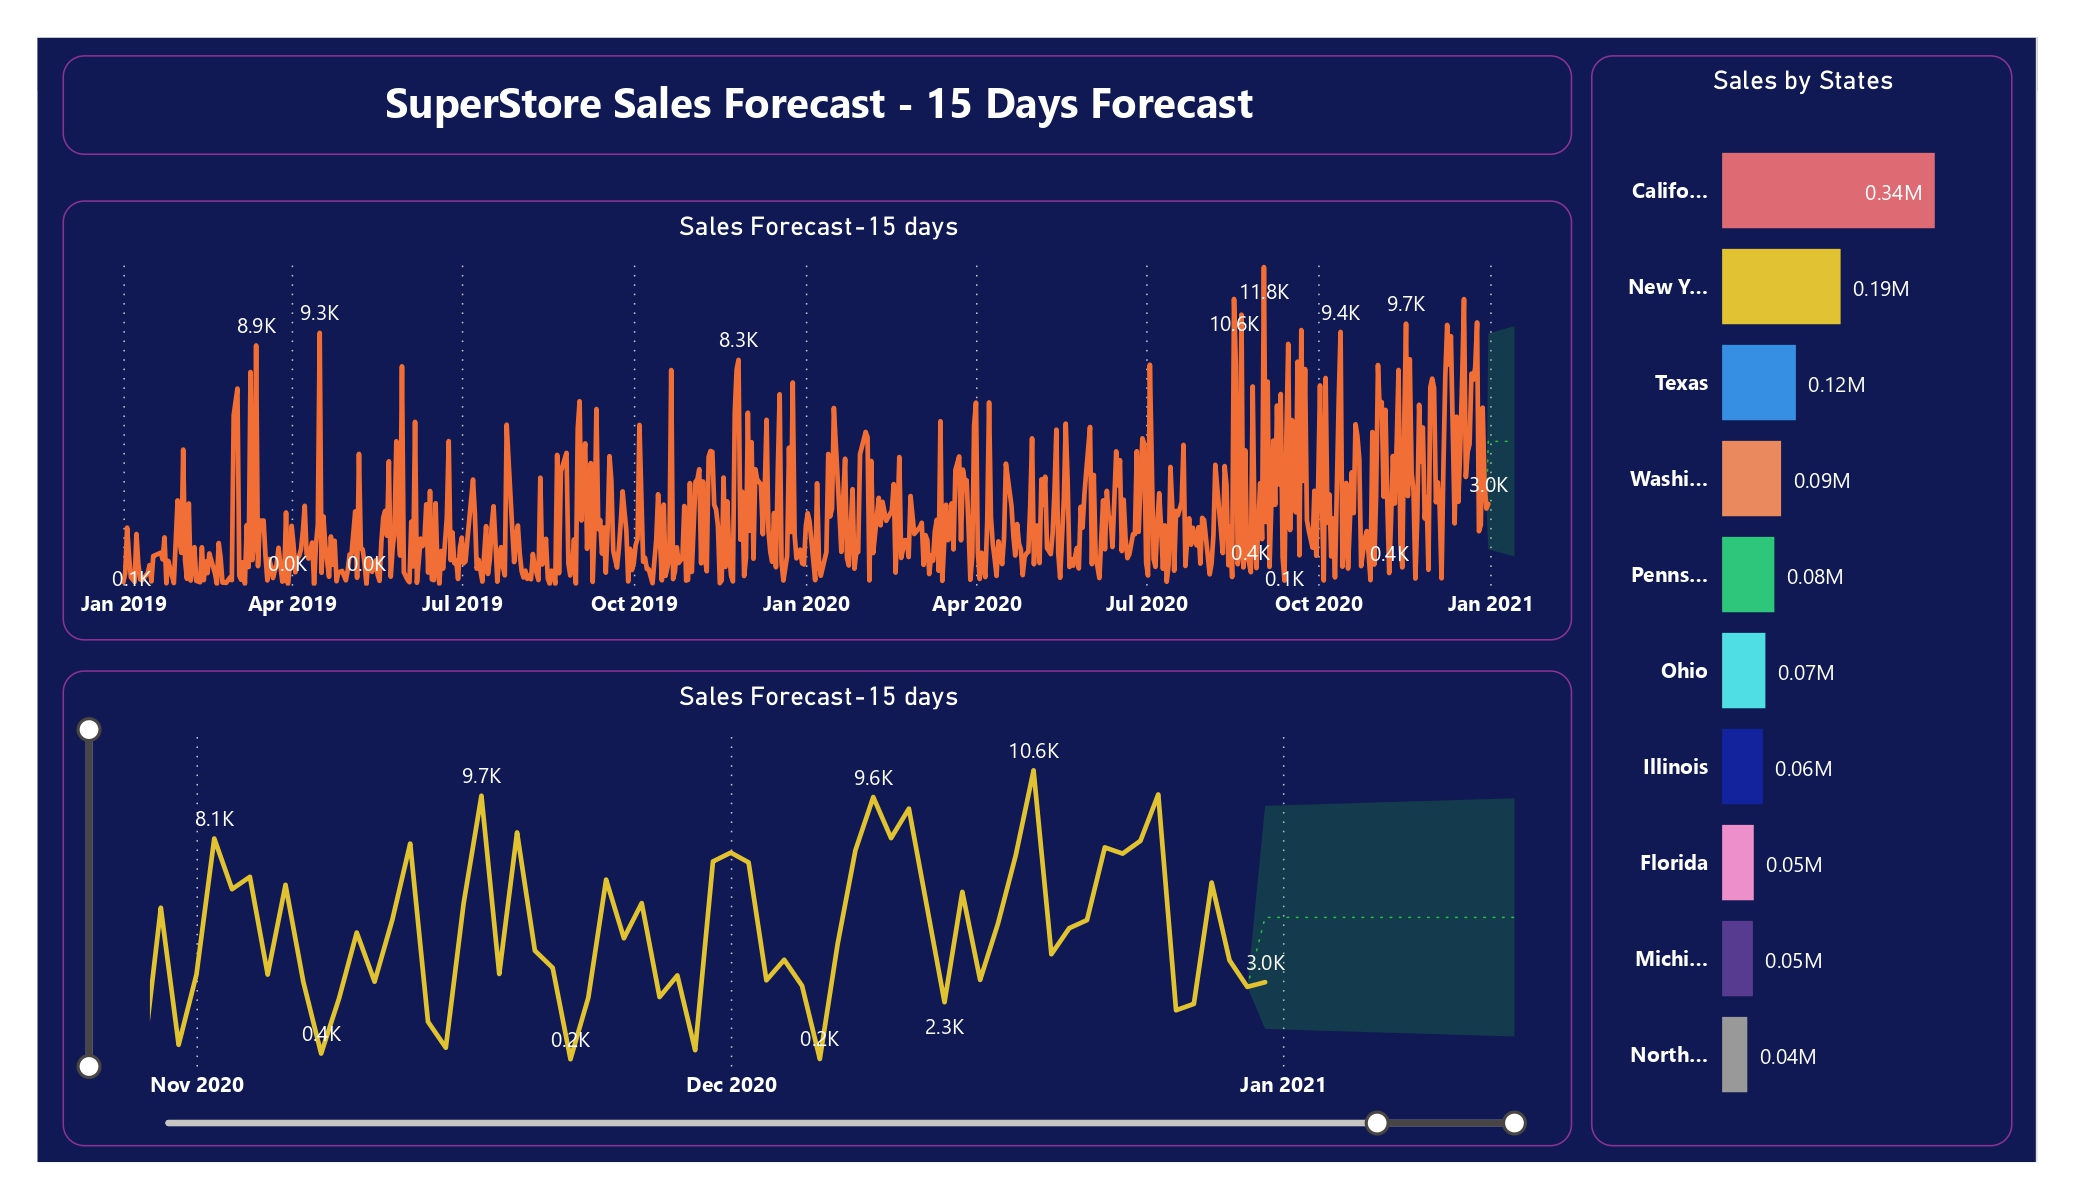

What the dashboard file says about the page in this screenshot:
{"tool":"powerbi","page":{"name":"Page 2","canvas":[1280,720],"ordinal":1},"visuals":[{"type":"lineChart","title":"Sales Forecast-15 days","fields":{"Y":["Sum(SuperStore_Sales_Dataset.Sales)"],"Category":["SuperStore_Sales_Dataset.Order Date.Variation.Date Hierarchy.Year","SuperStore_Sales_Dataset.Order Date.Variation.Date Hierarchy.Quarter","SuperStore_Sales_Dataset.Order Date.Variation.Date Hierarchy.Month","SuperStore_Sales_Dataset.Order Date.Variation.Date Hierarchy.Day"]},"box":[16.2,103.8,966.2,282.5],"z":0},{"type":"lineChart","title":"Sales Forecast-15 days","fields":{"Y":["Sum(SuperStore_Sales_Dataset.Sales)"],"Category":["SuperStore_Sales_Dataset.Order Date.Variation.Date Hierarchy.Year","SuperStore_Sales_Dataset.Order Date.Variation.Date Hierarchy.Quarter","SuperStore_Sales_Dataset.Order Date.Variation.Date Hierarchy.Month","SuperStore_Sales_Dataset.Order Date.Variation.Date Hierarchy.Day"]},"box":[16.2,405,966.2,305],"z":1000},{"type":"clusteredBarChart","title":"Sales by States","fields":{"Y":["Sum(SuperStore_Sales_Dataset.Sales)"],"Category":["SuperStore_Sales_Dataset.State"]},"box":[995,11.2,270,698.8],"z":2000},{"type":"textbox","box":[16.2,11.2,966.2,63.8],"z":3000}]}

Visuals, with their boxes in screenshot pixels (x1, y1, x2, y2):
"Sales Forecast-15 days" lineChart: x1=63 y1=200 x2=1573 y2=641
"Sales Forecast-15 days" lineChart: x1=63 y1=670 x2=1573 y2=1147
"Sales by States" clusteredBarChart: x1=1592 y1=55 x2=2014 y2=1147
textbox: x1=63 y1=55 x2=1573 y2=155
